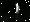person: (14, 3, 22, 16)
